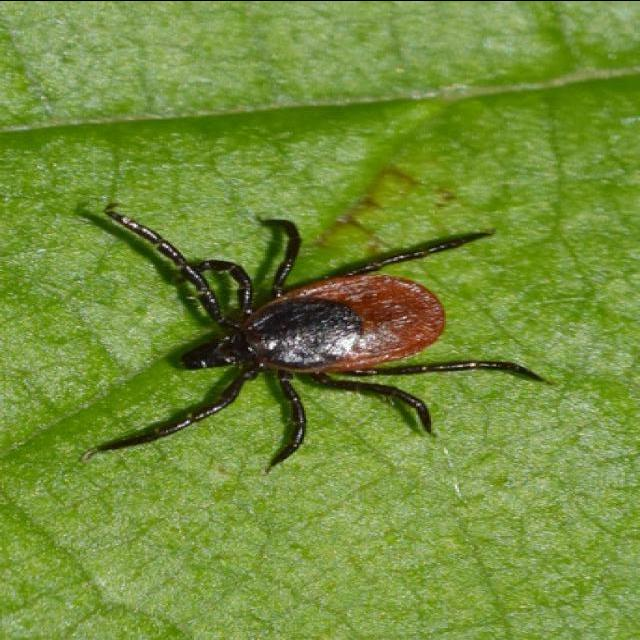Ixodes Ricinus-F: (80, 202, 550, 471)
